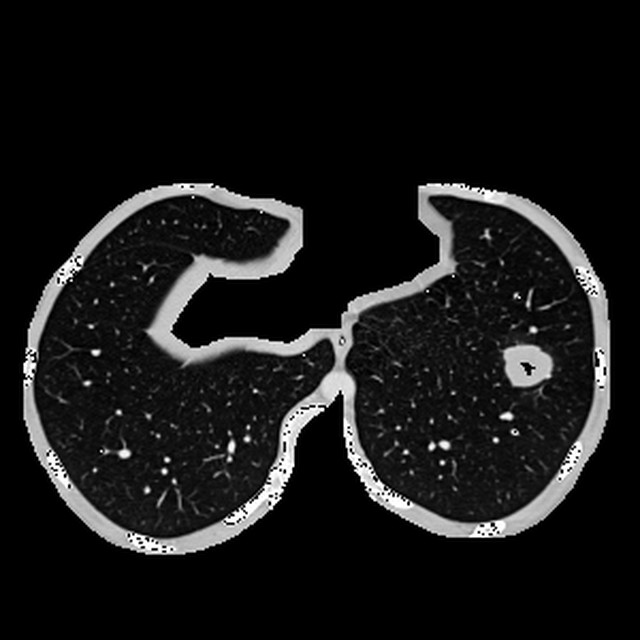PN: (499, 337, 550, 388)
